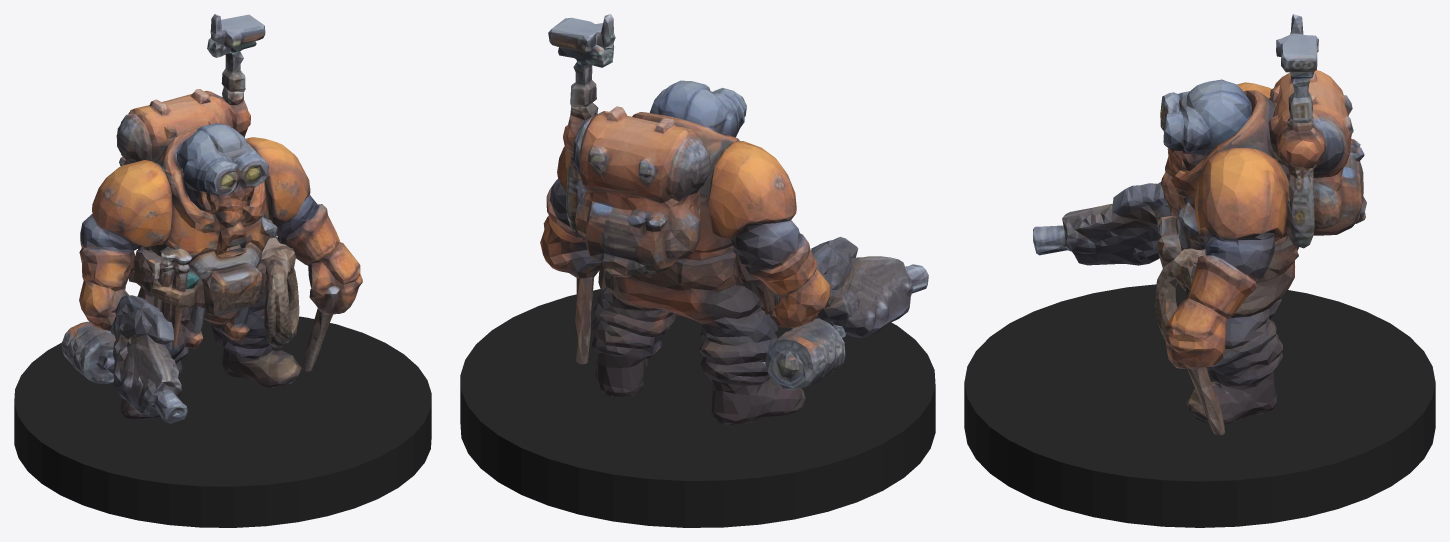
The model's file is hk-lokatr.glb.
3 views of the same model, side by side, from view 1: azimuth 30°, elevation 25°; view 2: azimuth 150°, elevation 25°; view 3: azimuth 270°, elevation 25° (orthographic). The views are drawn at different scales.
Visible parts, largest first — view 1: figure, base; view 2: figure, base; view 3: base, figure.
Boxes of the visible parts, x1,y1,x2,y2 form: figure: (61, 14, 362, 423); base: (14, 316, 431, 527); figure: (540, 14, 928, 424); base: (460, 289, 935, 527); base: (964, 283, 1435, 527); figure: (1033, 14, 1366, 435).
Size of the model in its own units: 1.1 by 1.12 by 1.1.
2 materials, 1 textured.
